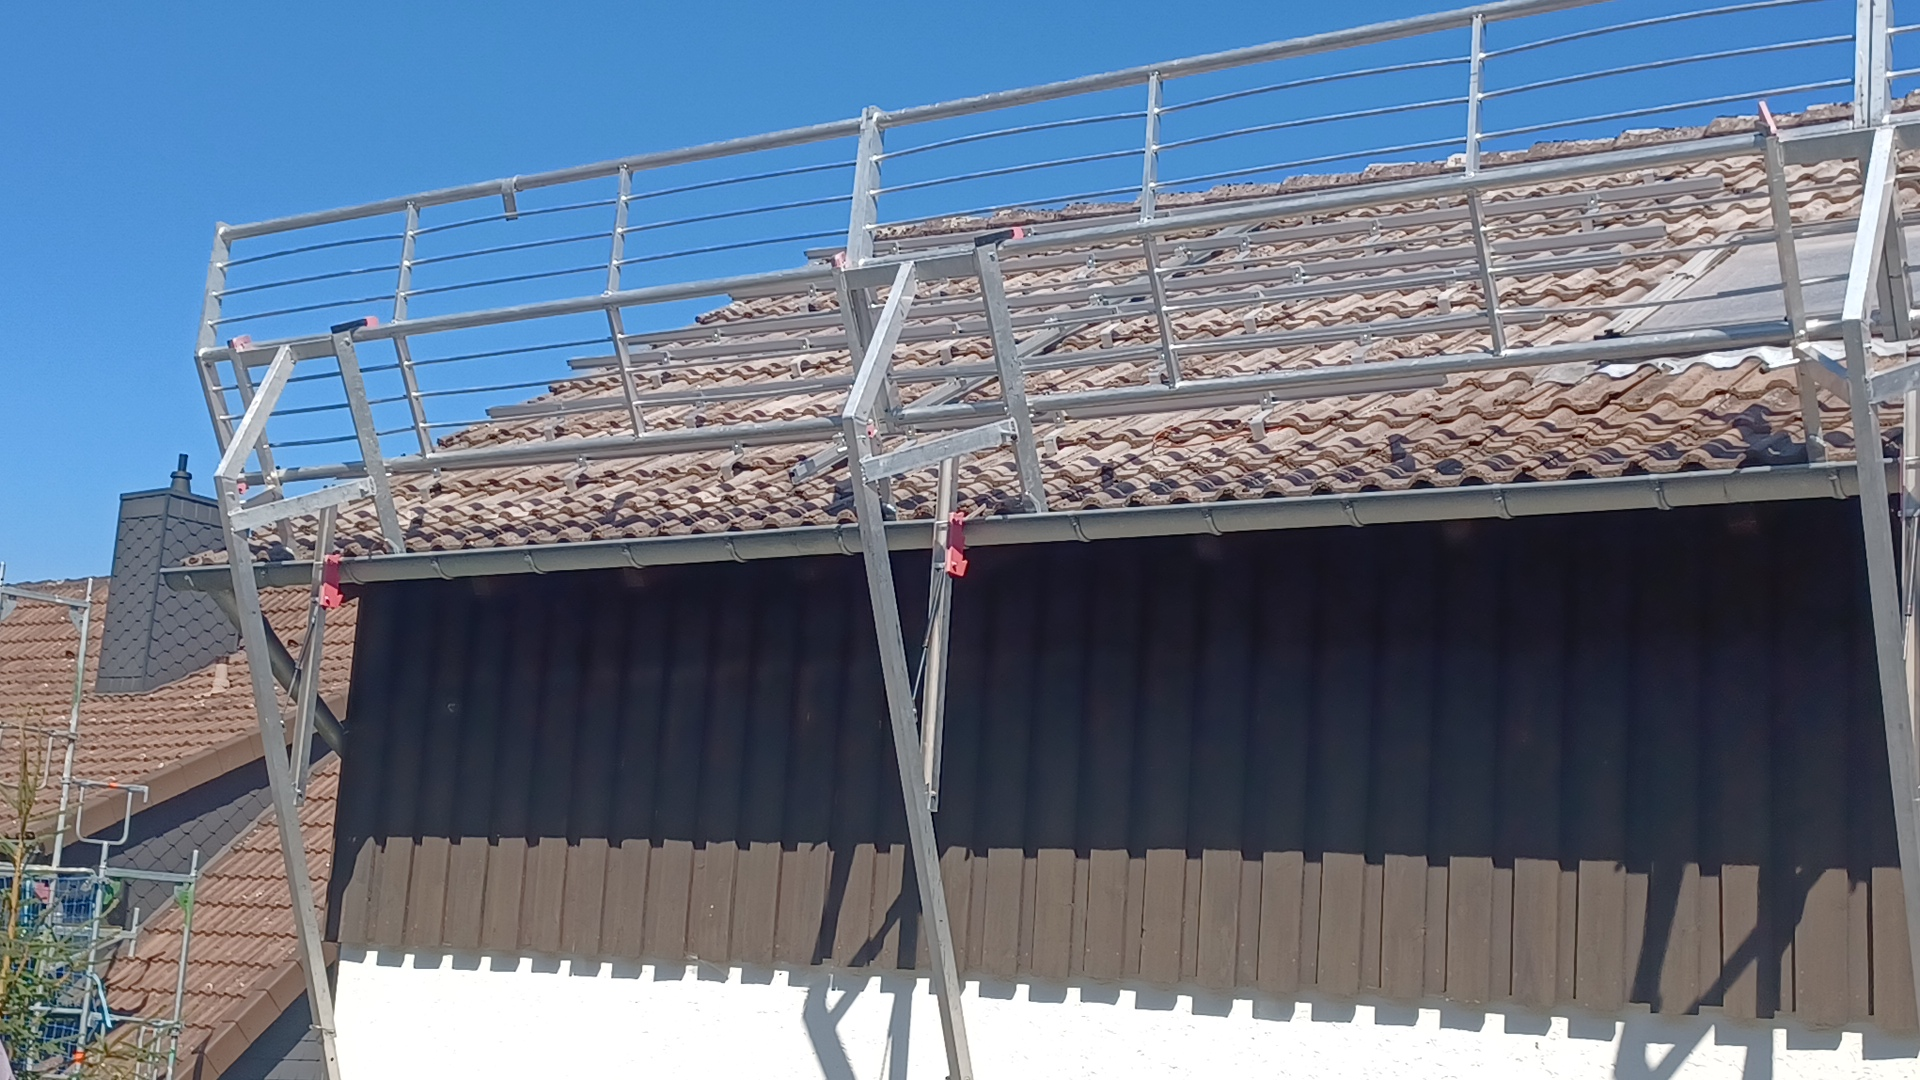hook: (1044, 407, 1069, 458), (1251, 388, 1274, 440), (1100, 306, 1125, 349), (791, 338, 818, 378), (1286, 265, 1309, 309), (721, 436, 744, 481), (564, 451, 588, 493), (1437, 269, 1460, 313), (940, 322, 964, 363), (1365, 218, 1389, 257), (1244, 290, 1265, 334), (1582, 193, 1605, 232), (419, 465, 442, 502), (684, 392, 707, 429), (1352, 324, 1373, 363), (545, 404, 564, 440), (651, 351, 671, 388), (1077, 253, 1097, 287), (1149, 351, 1168, 384), (1234, 235, 1251, 272), (704, 328, 721, 363), (799, 282, 818, 313), (931, 277, 949, 298), (890, 240, 899, 255)
